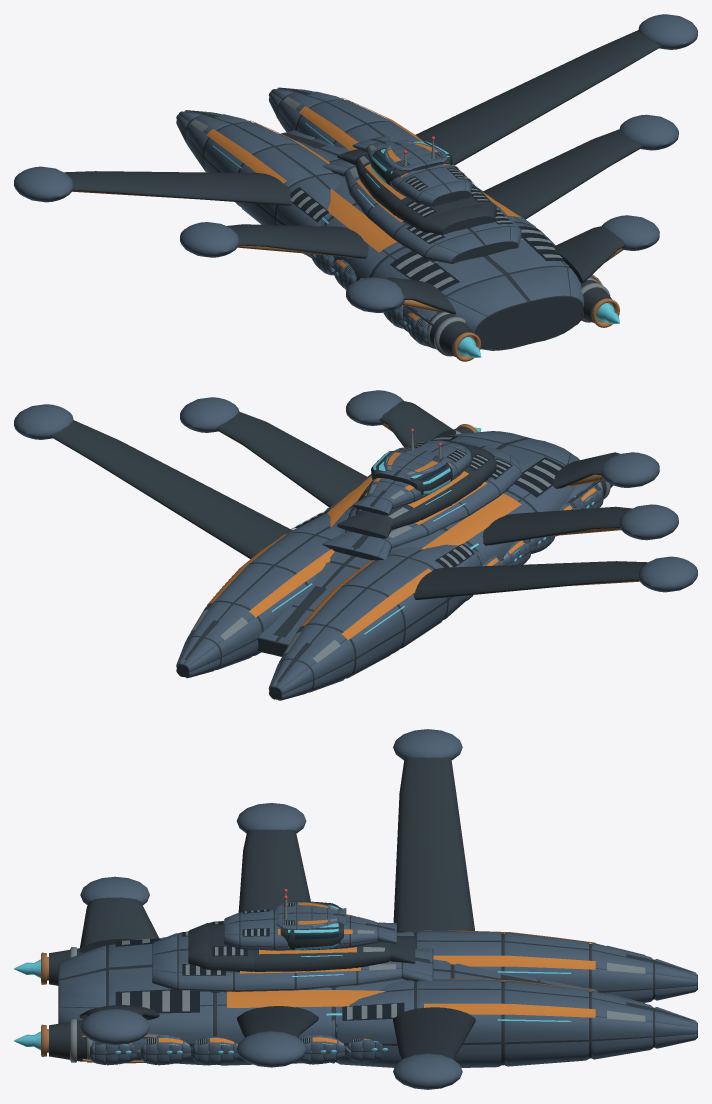
Rendered from cruiser.glb.
3 views of the same model, one above another, from view 1: azimuth 30°, elevation 25°; view 2: azimuth 150°, elevation 25°; view 3: azimuth 270°, elevation 25° (orthographic). The views are drawn at different scales.
Parts seen in each view (by area): view 1: cruiser; view 2: cruiser; view 3: cruiser.
Boxes of the visible parts, bbox=[...] form: cruiser: bbox=[14, 14, 697, 361]; cruiser: bbox=[14, 390, 697, 700]; cruiser: bbox=[14, 729, 697, 1089].
Bounding box in the file's own units: 117 × 23.27 × 96.24.
